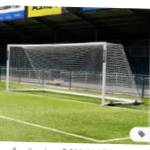goals: (6, 40, 142, 105)
